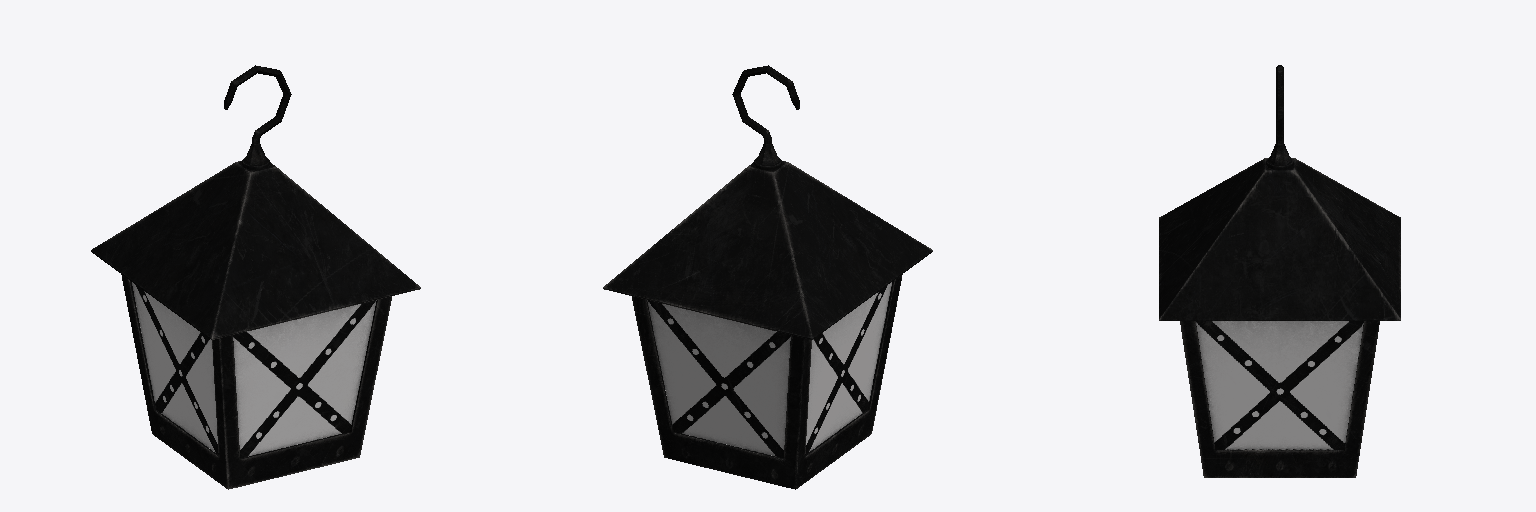
3 renders of one model, left to right at view 1: azimuth 30°, elevation 25°; view 2: azimuth 150°, elevation 25°; view 3: azimuth 270°, elevation 25°, orthographic.
Parts seen in each view (by area): view 1: lantern_Cube.001; view 2: lantern_Cube.001; view 3: lantern_Cube.001.
Part boxes in pixels (left/top/right/bottom): lantern_Cube.001: left=91, top=65, right=420, bottom=489; lantern_Cube.001: left=603, top=65, right=932, bottom=489; lantern_Cube.001: left=1159, top=65, right=1400, bottom=477.
Bounding box in the file's own units: 0.1999 × 0.3458 × 0.1999.
1 materials, 1 textured.